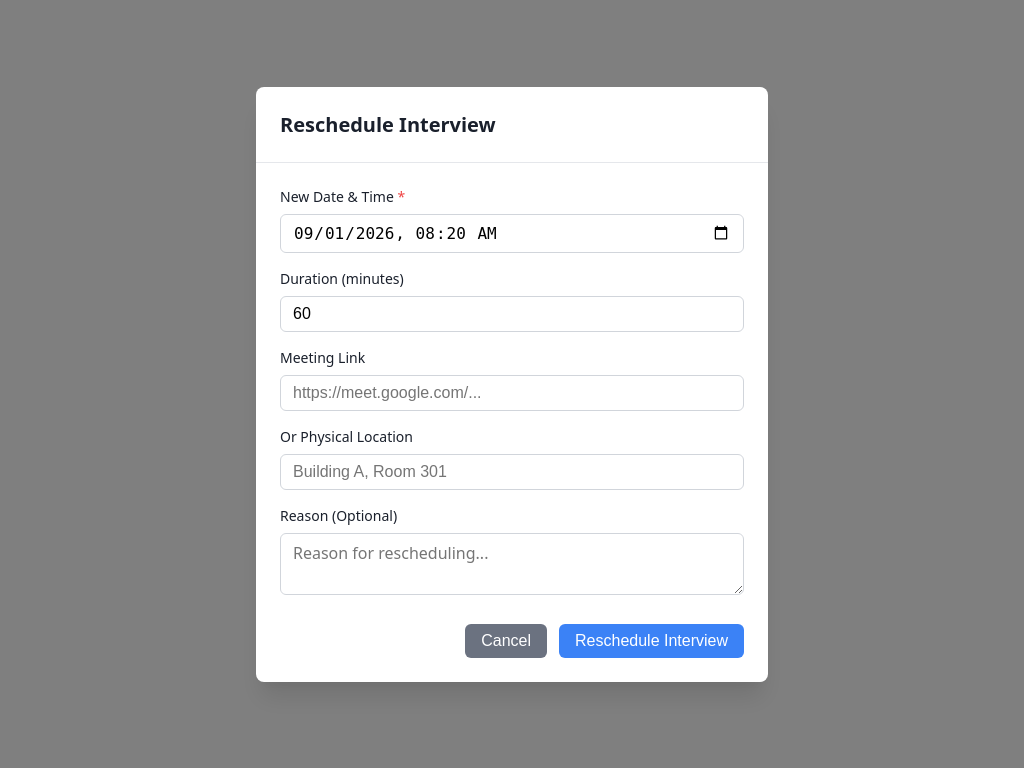
Test case: RescheduleModal › should validate that either meeting link or location is provided
Step 1. Click the button "Reschedule Interview" → click(652, 640), box x1=559 y1=624 x2=744 y2=658
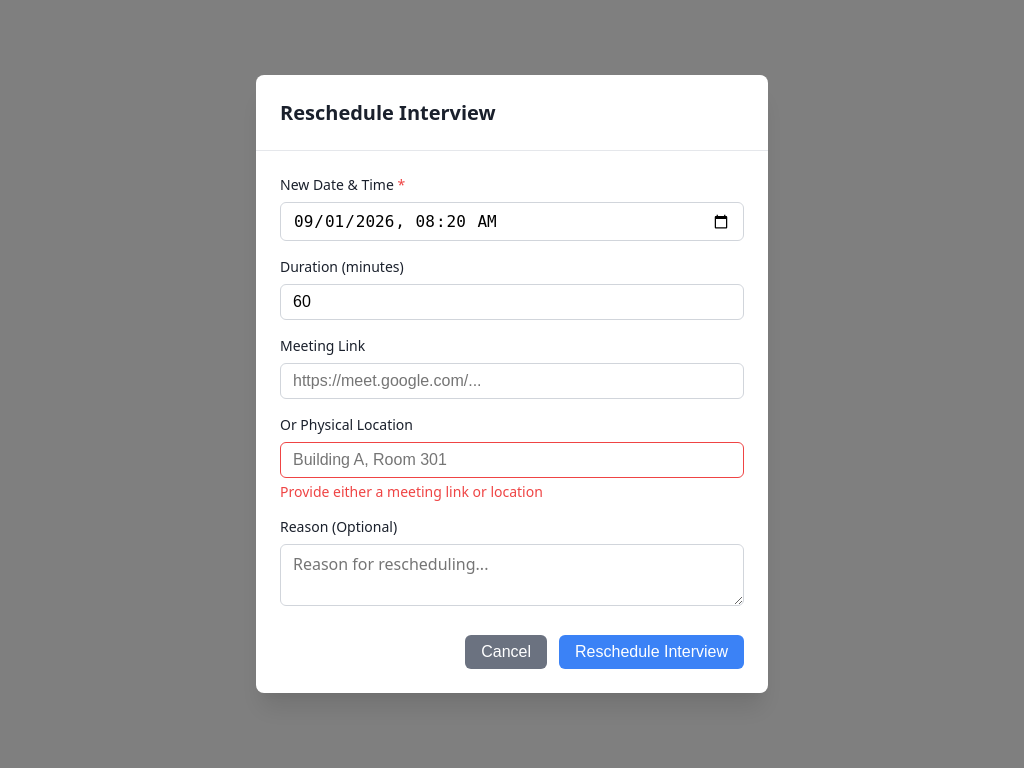
Check: the text "Provide either a meeting link or location" is shown, box x1=280 y1=482 x2=543 y2=501
